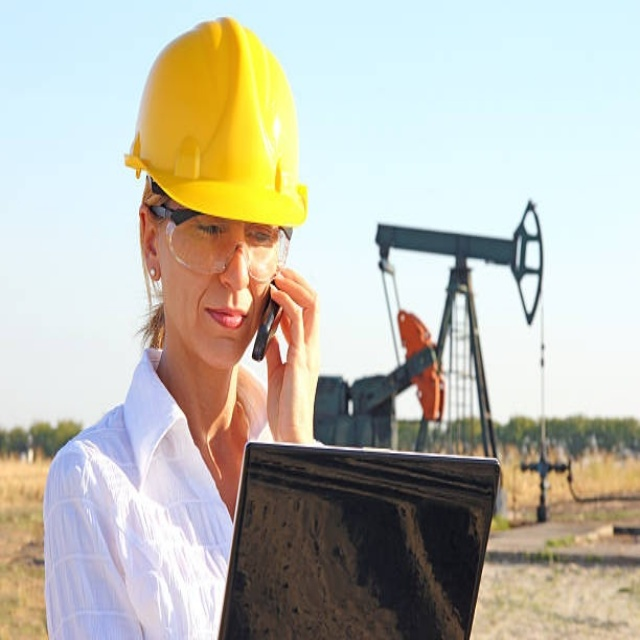Gafas: (150, 196, 295, 278)
Sin_guantes: (262, 271, 322, 444)
Sin_mascara: (198, 296, 249, 359)
